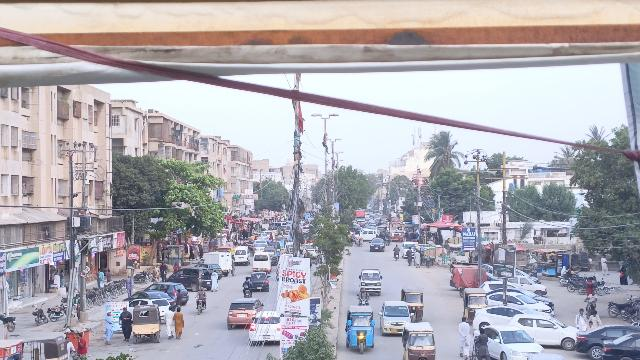Bike: (195, 298, 206, 316), (242, 289, 253, 299)
Car: (509, 312, 580, 350), (479, 323, 544, 360), (572, 325, 634, 357), (247, 308, 282, 345), (379, 300, 415, 335), (226, 297, 262, 330), (169, 264, 212, 291), (147, 280, 189, 303), (250, 270, 271, 292)
Person: (455, 315, 474, 359), (117, 306, 133, 344), (172, 304, 186, 344), (474, 326, 490, 360), (163, 304, 175, 341), (104, 309, 114, 346), (573, 307, 587, 330), (590, 309, 602, 329), (195, 285, 208, 299), (241, 275, 254, 289)
Rickshaw: (342, 304, 378, 355), (401, 321, 438, 360), (129, 304, 162, 346), (400, 285, 427, 323), (462, 286, 489, 323)
Suzuki: (358, 267, 383, 296)
Truck: (200, 251, 233, 272)
Van: (251, 250, 273, 273)
